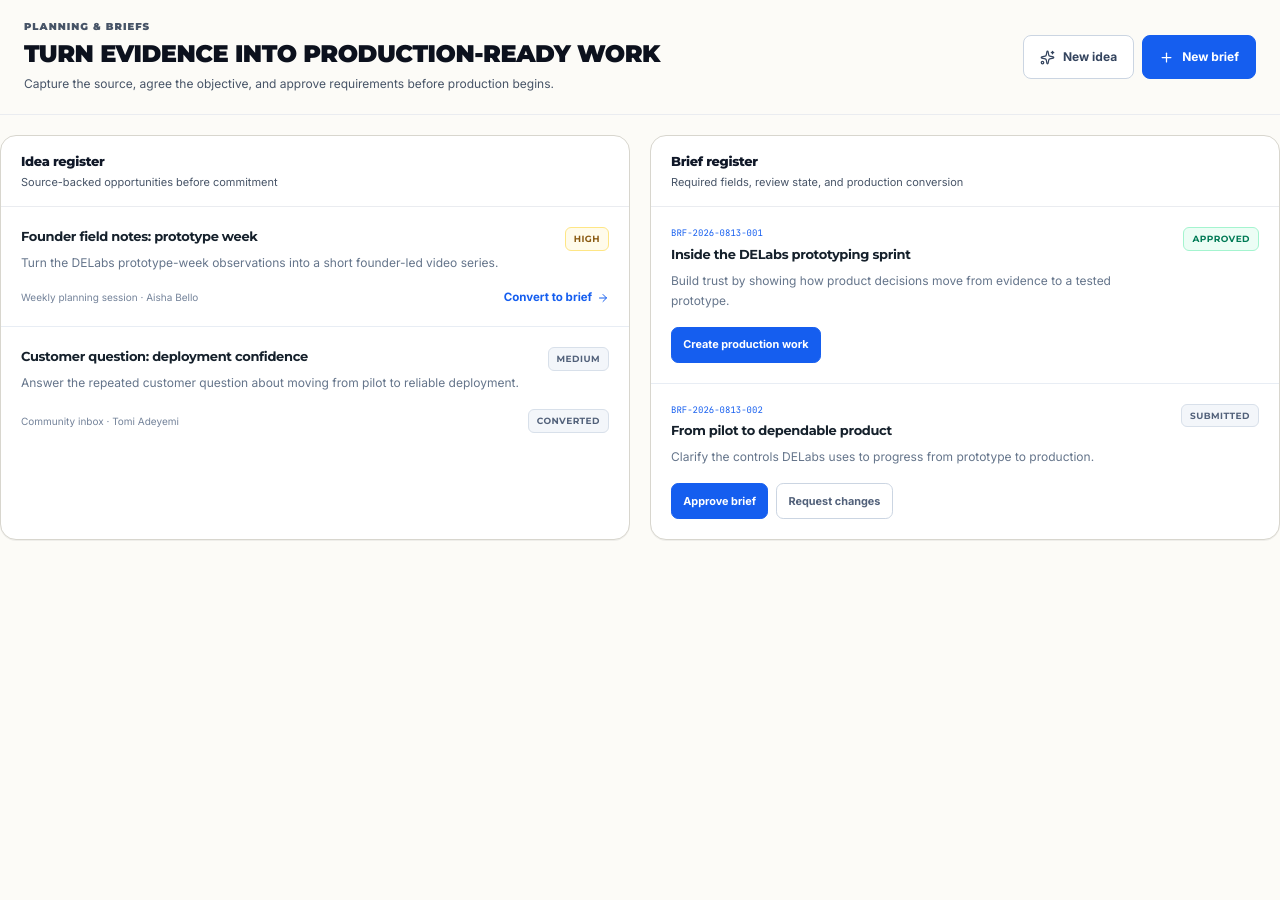
Test: ContentSocialModule › blocks creation when directory access has no writable brands
The width and height of the screenshot is (1280, 900).
Click the button "New idea". click: (1078, 57)
box: [1023,35,1134,79]
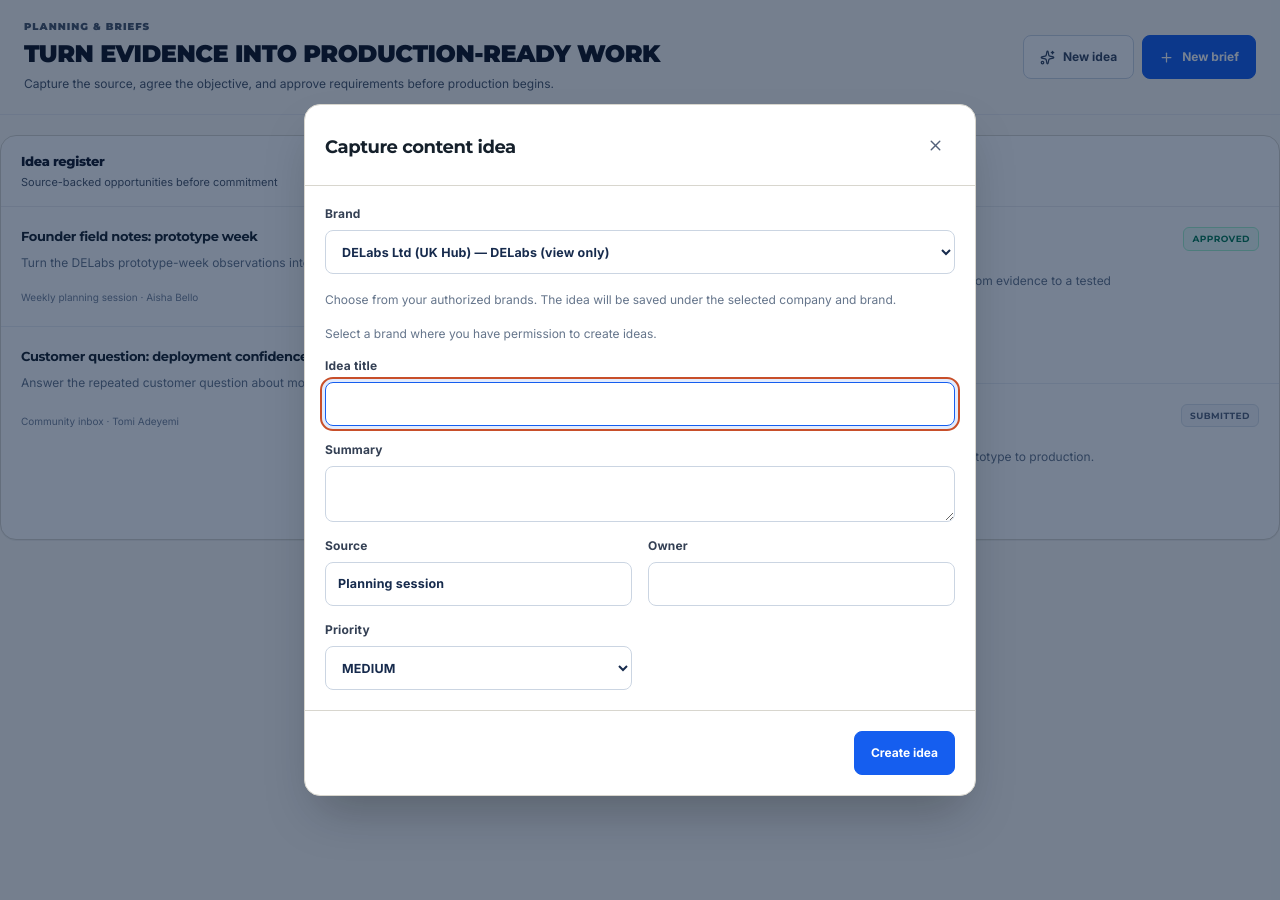
Expected: the button "Create idea" is disabled, [854,731,955,775]
Expected: the message shows "permission to create ideas", [325,326,657,341]
